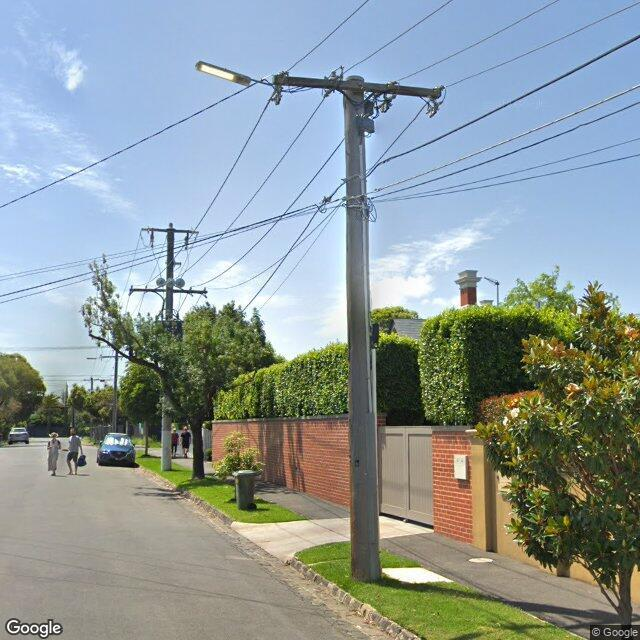HV-transmission: (150, 222, 189, 249)
crossarm: (272, 74, 441, 99), (129, 288, 207, 294), (141, 228, 199, 234), (100, 355, 123, 358), (84, 378, 100, 381)
streetlight: (195, 61, 272, 87), (86, 358, 102, 360)
timber-pole: (343, 75, 381, 583), (161, 228, 175, 472), (112, 351, 119, 432), (91, 377, 93, 395)
transformer: (152, 319, 184, 342)
